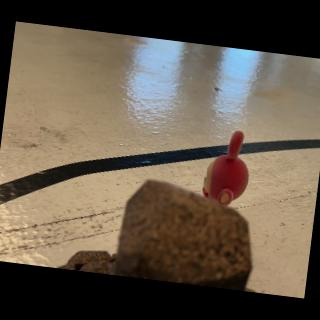teletubby: (202, 131, 248, 205)
